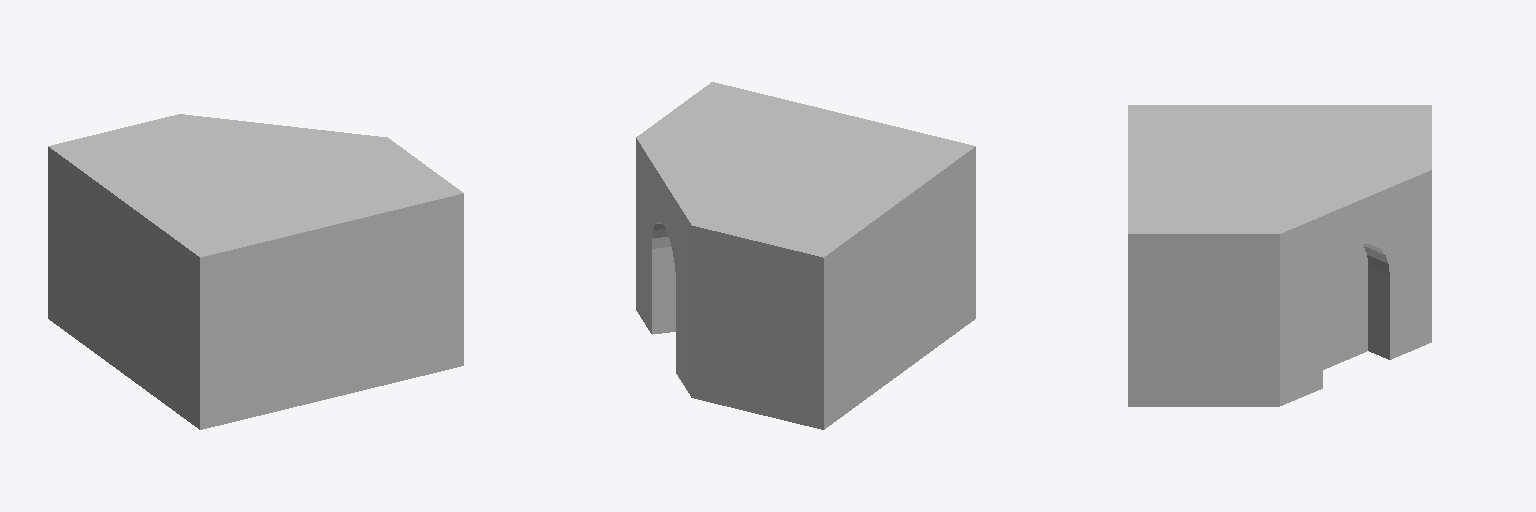
The model's file is building_030.obj.
3 renders of one model, left to right at view 1: azimuth 30°, elevation 25°; view 2: azimuth 150°, elevation 25°; view 3: azimuth 270°, elevation 25°, orthographic.
Parts seen in each view (by area): view 1: building_030; view 2: building_030; view 3: building_030.
Boxes of the visible parts, <box> form: building_030: <box>48,114,463,429</box>; building_030: <box>636,82,975,429</box>; building_030: <box>1128,105,1431,406</box>.
Size of the model in its own units: 1 by 0.625 by 1.